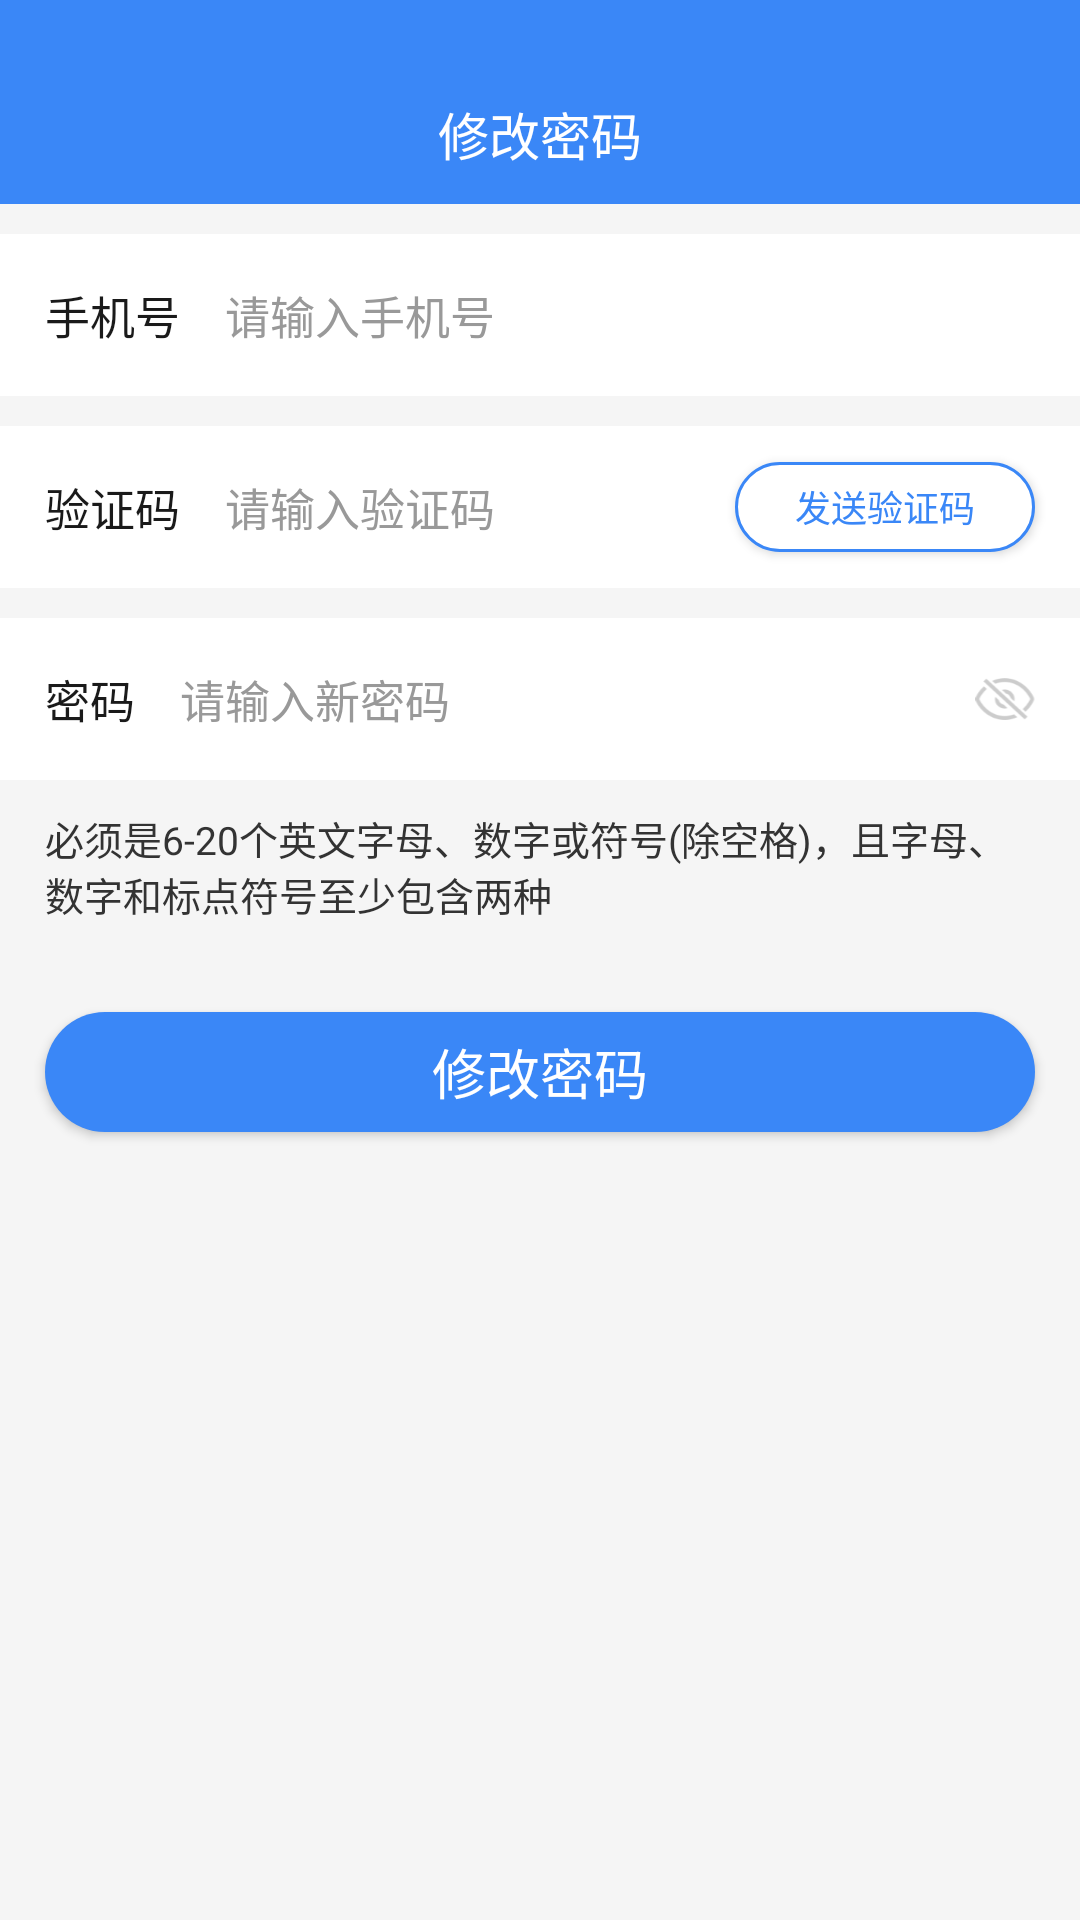

Screen size 1080px×1920px. Icon name, then its box in pixels as [x1,y1,x2,y2]:
password not cansee: [975,678,1034,720]
